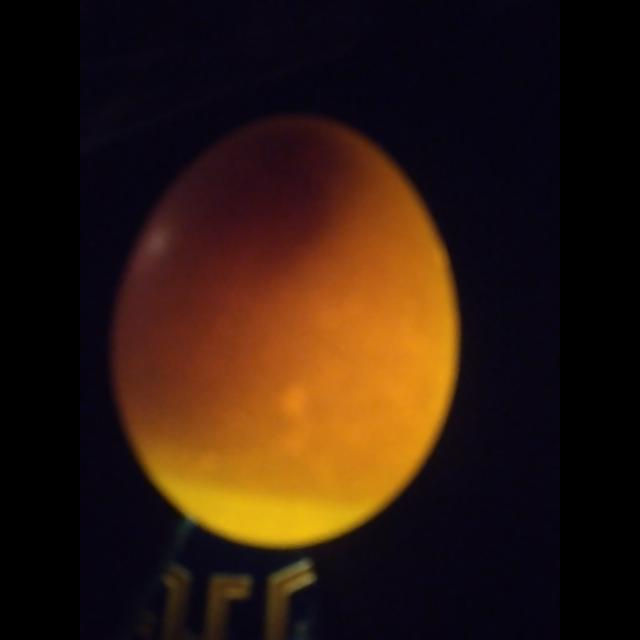Infertile: (105, 111, 469, 547)
